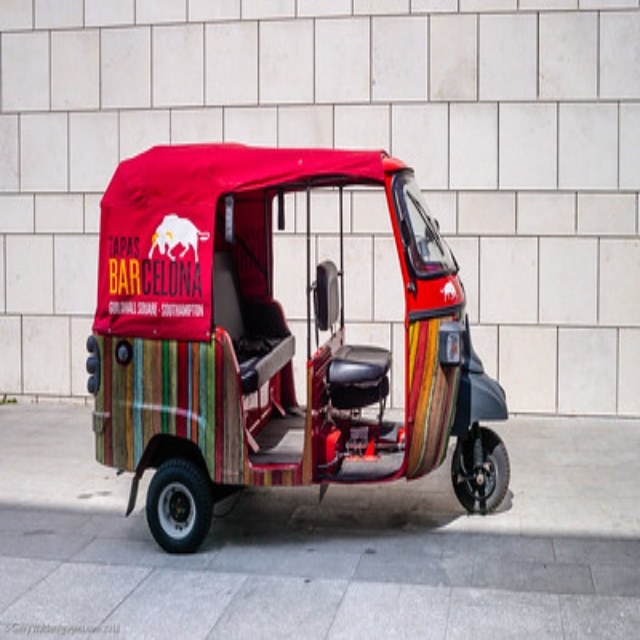Motorcycle: (86, 144, 510, 556)
